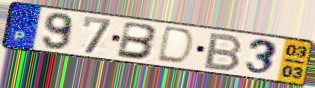3: (242, 38, 282, 77)
7: (80, 15, 114, 56)
9: (38, 11, 75, 51)
B: (114, 20, 160, 61), (201, 31, 245, 73)
D: (154, 25, 196, 67)
